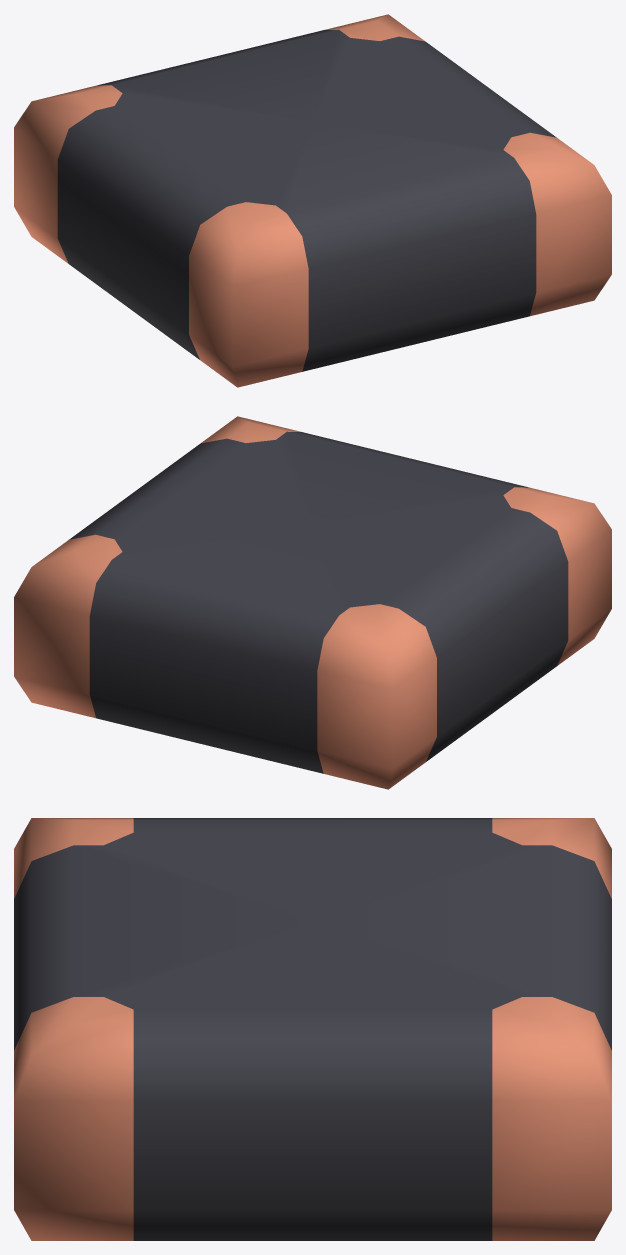
The model's file is conveyor-stripe-sides-cross.obj.
The picture shows the model from 3 angles, top to bottom: view 1: azimuth 30°, elevation 25°; view 2: azimuth 150°, elevation 25°; view 3: azimuth 270°, elevation 25°; orthographic projection. The views are drawn at different scales.
Visible parts, largest first — view 1: conveyor-stripe-sides-cross; view 2: conveyor-stripe-sides-cross; view 3: conveyor-stripe-sides-cross.
Part boxes in pixels (box(x1,y1,x2,y2)): conveyor-stripe-sides-cross: box(14, 14, 611, 387); conveyor-stripe-sides-cross: box(14, 416, 611, 789); conveyor-stripe-sides-cross: box(14, 818, 611, 1240).
Bounding box in the file's own units: 1 × 0.4 × 1.
